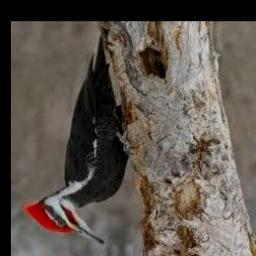Woodpecker: (23, 33, 130, 246)
